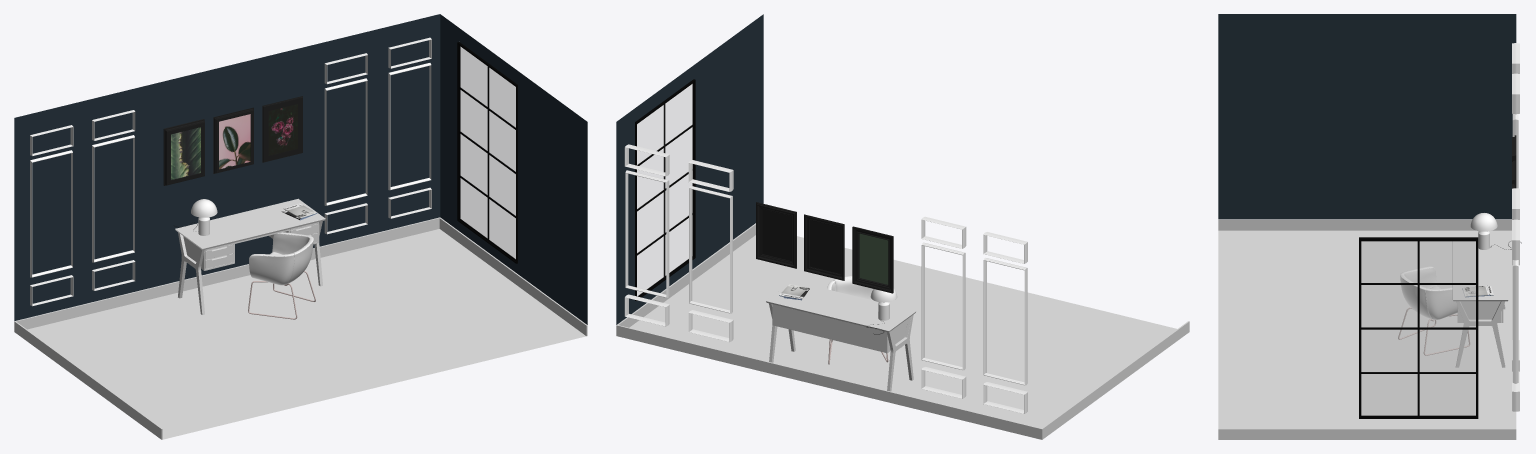
File: bakingDemo-v1.glb
The picture shows the model from 3 angles, left to right: view 1: azimuth 30°, elevation 25°; view 2: azimuth 150°, elevation 25°; view 3: azimuth 270°, elevation 25°; orthographic projection.
Parts seen in each view (by area): view 1: Room, Floor, 1200 Window Glass, Baseboard, Desk.001, 1200 Window, iMeshh Picture Frame1, Tulip Chair Top, iMeshh Picture Frame2, iMeshh Picture Frame1.001, Plane.006, Plane.009 (+3 smaller); view 2: Floor, Room, Baseboard, 1200 Window Glass, Desk.001, iMeshh Picture Frame1, 1200 Window, iMeshh Picture Frame2, iMeshh Picture Frame1.001, Plane.003, Plane.009, Plane (+8 smaller); view 3: Room, Floor, 1200 Window Glass, Baseboard, Desk.001, 1200 Window, Tulip Chair Top, Plane.009, Ottolo Lamp replica.001, Plane.010, Plane.004, Plane.003 (+1 smaller).
Boxes of the visible parts, bbox=[...] form: Room: bbox=[14, 14, 587, 324]; Floor: bbox=[27, 229, 585, 439]; 1200 Window Glass: bbox=[460, 46, 515, 258]; Baseboard: bbox=[14, 217, 587, 439]; Desk.001: bbox=[175, 198, 325, 314]; 1200 Window: bbox=[457, 42, 517, 263]; iMeshh Picture Frame1: bbox=[163, 119, 204, 185]; Tulip Chair Top: bbox=[249, 232, 313, 285]; iMeshh Picture Frame2: bbox=[262, 96, 302, 162]; iMeshh Picture Frame1.001: bbox=[213, 107, 253, 173]; Plane.006: bbox=[324, 78, 367, 205]; Plane.009: bbox=[388, 63, 431, 190]; Floor: bbox=[629, 235, 1176, 428]; Room: bbox=[616, 14, 763, 324]; Baseboard: bbox=[616, 223, 1189, 439]; 1200 Window Glass: bbox=[637, 84, 692, 296]; Desk.001: bbox=[766, 281, 916, 391]; iMeshh Picture Frame1: bbox=[852, 226, 893, 293]; 1200 Window: bbox=[635, 79, 695, 300]; iMeshh Picture Frame2: bbox=[756, 202, 796, 268]; iMeshh Picture Frame1.001: bbox=[804, 214, 844, 280]; Plane.003: bbox=[921, 242, 965, 370]; Plane.009: bbox=[625, 170, 669, 297]; Plane: bbox=[983, 258, 1027, 385]; Room: bbox=[1218, 14, 1516, 219]; Floor: bbox=[1218, 230, 1514, 428]; 1200 Window Glass: bbox=[1361, 241, 1475, 415]; Baseboard: bbox=[1218, 219, 1516, 439]; Desk.001: bbox=[1452, 239, 1508, 367]; 1200 Window: bbox=[1359, 237, 1478, 418]; Tulip Chair Top: bbox=[1400, 266, 1457, 319]; Plane.009: bbox=[1512, 260, 1518, 383]; Ottolo Lamp replica.001: bbox=[1470, 213, 1497, 231]; Plane.010: bbox=[1512, 219, 1519, 260]; Plane.004: bbox=[1512, 73, 1519, 114]; Plane.003: bbox=[1512, 114, 1518, 188].
Bounding box in the file's own units: 5.02 × 2.4 × 3.06.
25 materials, 6 textured.
